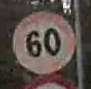limite 60: (10, 8, 75, 75)
